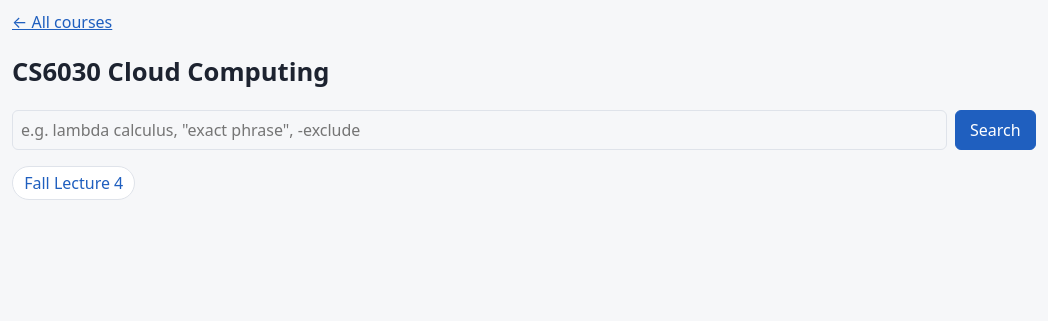
Test: <CourseSearchPage> › searches when the form is submitted
Step 1. Type "\"lambda calculus\"" into the field → (479, 130), box x1=12 y1=110 x2=947 y2=150
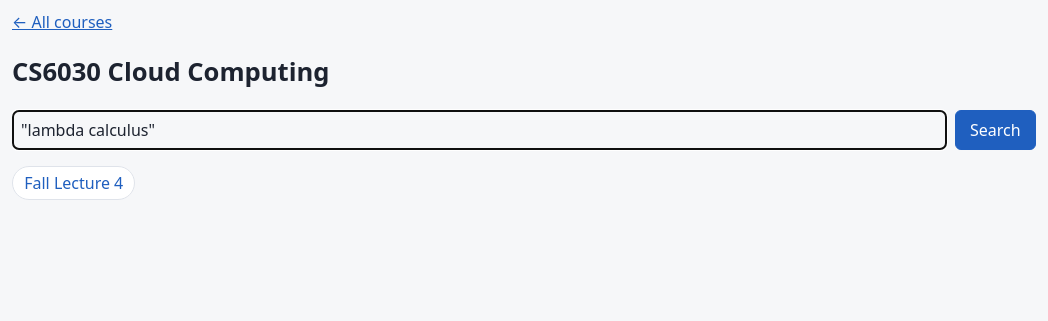
Step 2. Click the button "Search" → (995, 130), box x1=955 y1=110 x2=1036 y2=150
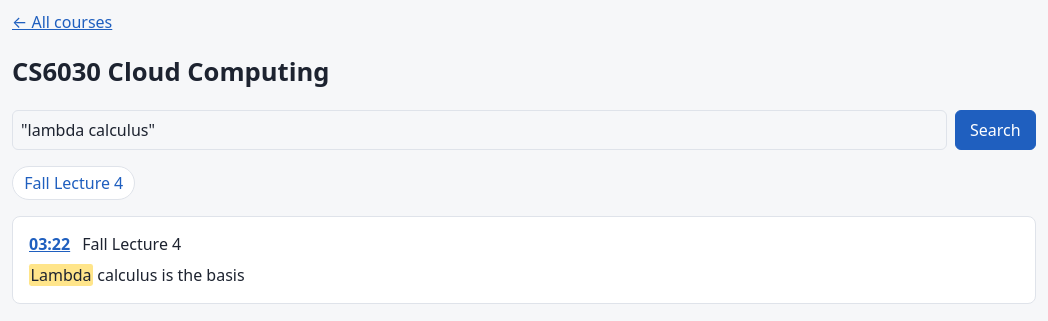
Now the link "03:22" is shown, box x1=29 y1=233 x2=70 y2=255
